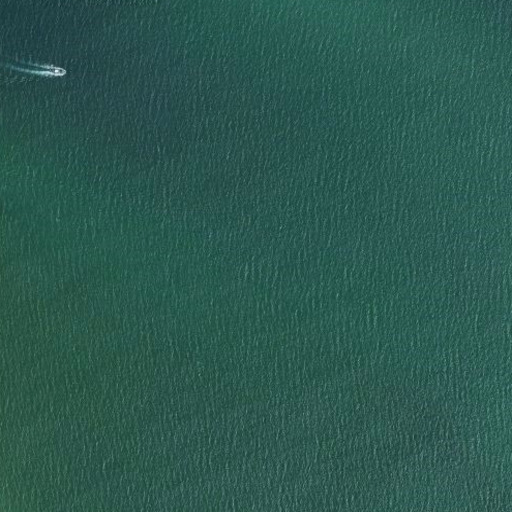ship: (45, 64, 68, 78)
